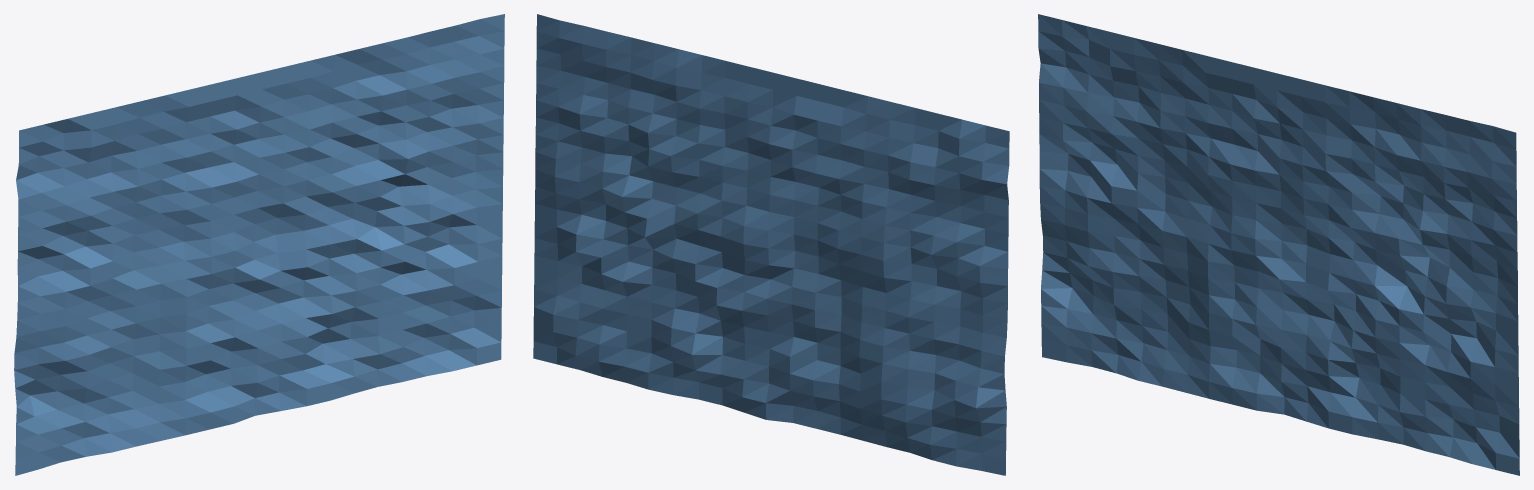
File: node.002_lev3.glb
The picture shows the model from 3 angles, left to right: view 1: azimuth 30°, elevation 25°; view 2: azimuth 150°, elevation 25°; view 3: azimuth 330°, elevation 25°; orthographic projection.
Parts seen in each view (by area): view 1: node.002_lev3; view 2: node.002_lev3; view 3: node.002_lev3.
Boxes of the visible parts, x1,y1,x2,y2 form: node.002_lev3: [14, 14, 504, 475]; node.002_lev3: [533, 14, 1009, 475]; node.002_lev3: [1038, 14, 1519, 475].
Bounding box in the file's own units: 152 × 105 × 7.67.
